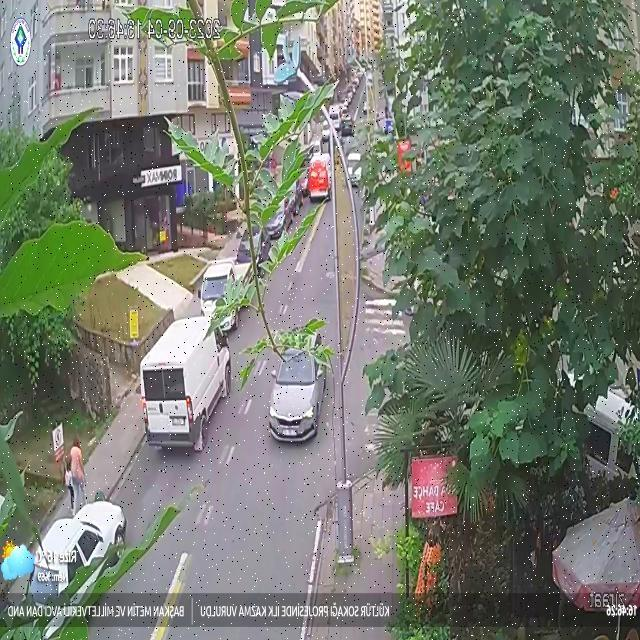Car: (267, 327, 324, 448)
Van: (142, 315, 234, 450)
